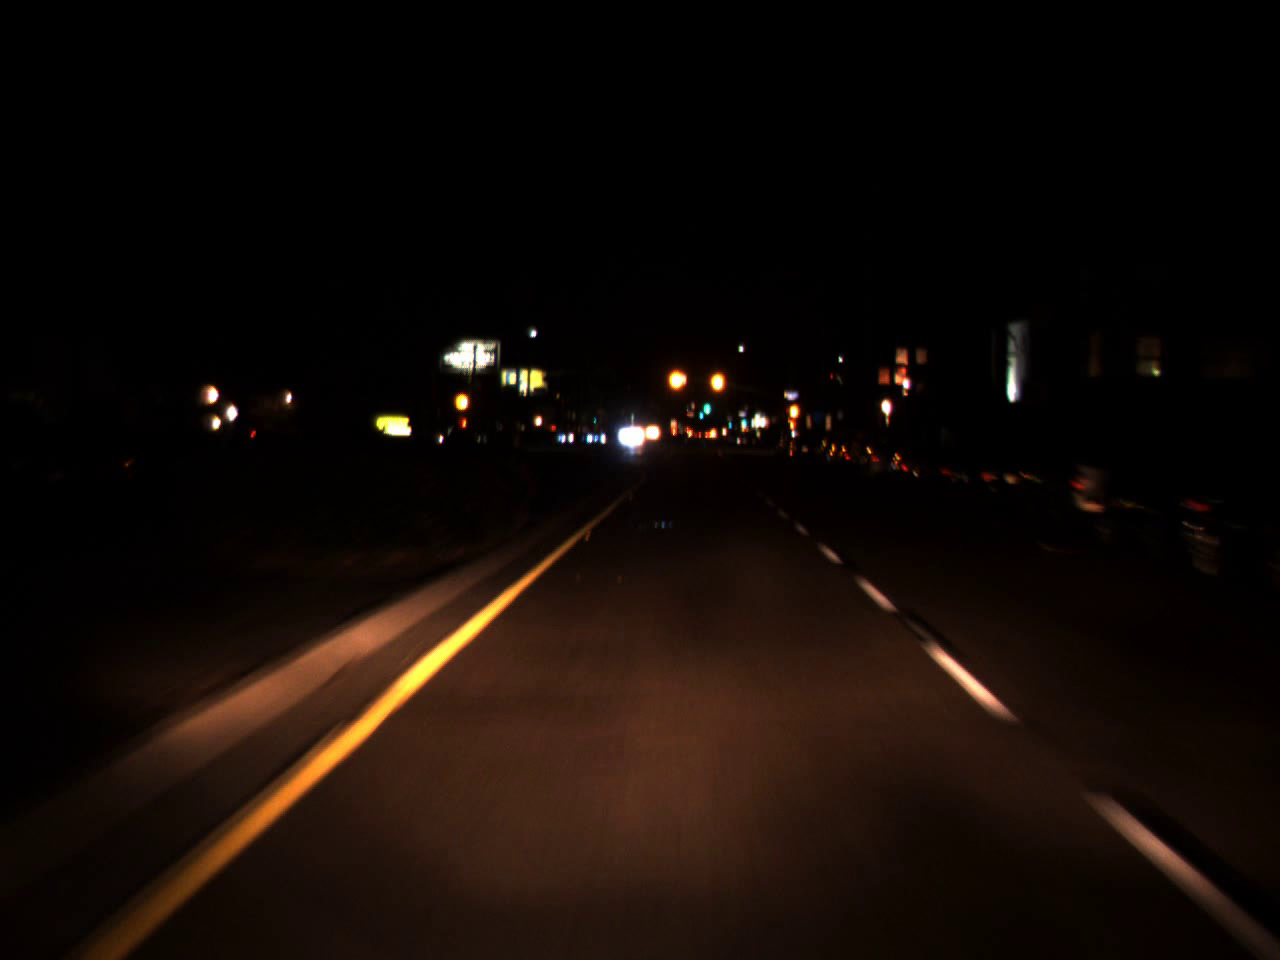go: (701, 393, 711, 417), (697, 405, 703, 419)
warning: (664, 355, 689, 402), (707, 360, 726, 402), (453, 381, 471, 421), (788, 396, 800, 426)
